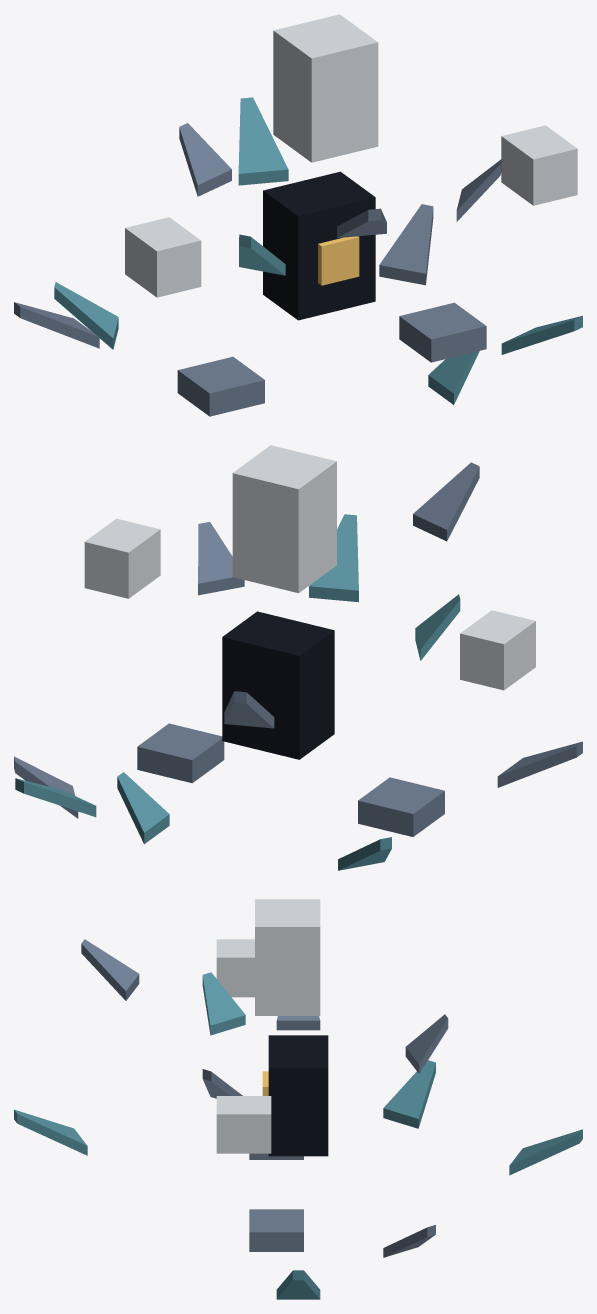
File: UnboundP3_uv.glb
3 views of the same model, one above another, from view 1: azimuth 30°, elevation 25°; view 2: azimuth 150°, elevation 25°; view 3: azimuth 270°, elevation 25° (orthographic). The views are drawn at different scales.
Visible parts, largest first — view 1: UnboundP3; view 2: UnboundP3; view 3: UnboundP3.
Boxes of the visible parts, bbox=[...] form: UnboundP3: bbox=[14, 14, 582, 416]; UnboundP3: bbox=[14, 445, 582, 870]; UnboundP3: bbox=[14, 899, 582, 1299].
Size of the model in its own units: 4.63 by 3.4 by 5.22.
1 material, 1 textured.
